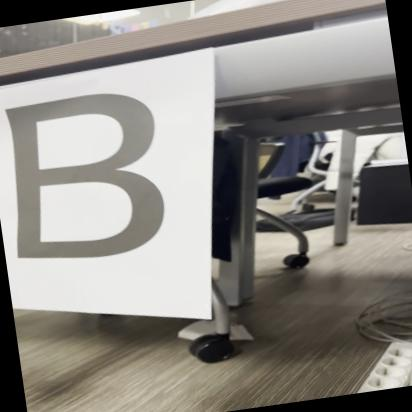seat: (0, 73, 196, 276)
